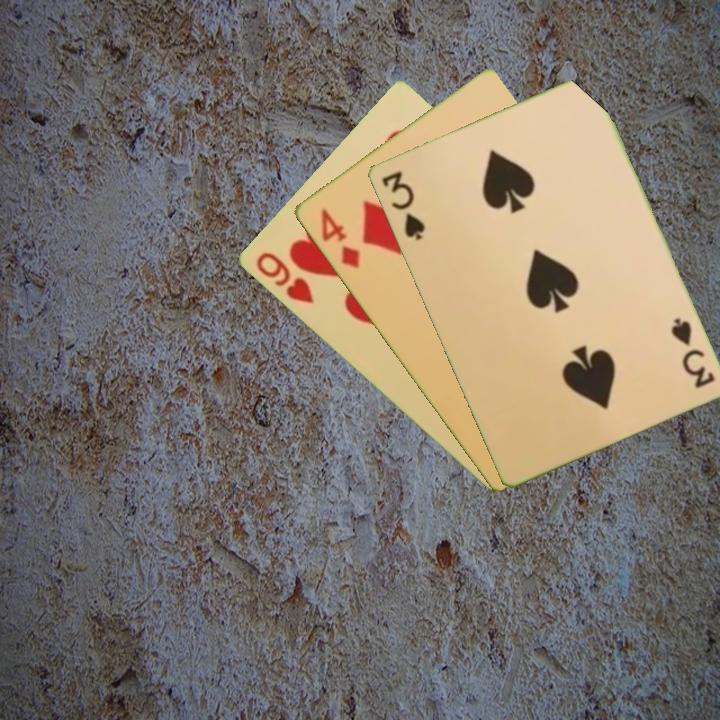3s: (667, 314, 718, 391), (377, 167, 428, 243)
4d: (316, 205, 362, 272)
9h: (252, 248, 317, 308)
